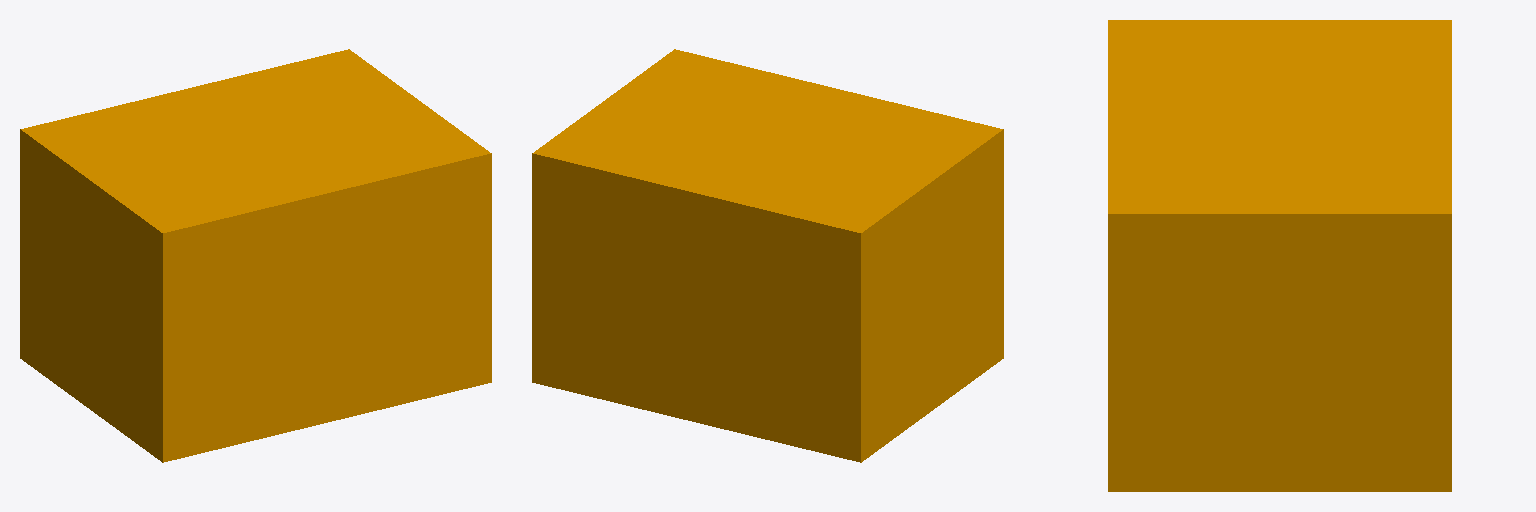
URDF robot description (three_circle_hole):
<?xml version="1.0"?>
<robot name="three_circle_hole">
    <link name="three_circle_hole">
        <visual>
            <origin xyz="0 0 0"/>
            <geometry>
                <mesh filename="../mesh/factory_insertion/three_circle_hole.obj"/>
            </geometry>
        </visual>
        <collision>
            <origin xyz="0 0 0"/>
            <geometry>
                <mesh filename="../mesh/factory_insertion/three_circle_hole.obj"/>
            </geometry>
            <sdf resolution="256"/>
        </collision>
        <inertial>
          <density value="567.0"/>
        </inertial>
    </link>

    <joint name="base_to_setpoint" type="fixed">
      <parent link="three_circle_hole"/>
      <child link="set_point"/>
      <origin rpy="0 0 0" xyz="0 0 -0.03"/>
    </joint>

    <link name="set_point">
      <visual>
        <geometry>
          <sphere radius="0.00005"/>
        </geometry>
        <material name="Vis"/>
        <origin xyz="0 0 0"/>
      </visual>
    </link>

</robot>

--- Render facts (derived) ---
3 views of the same robot in one strip: view 1: azimuth 30°, elevation 25°; view 2: azimuth 150°, elevation 25°; view 3: azimuth 270°, elevation 25° (orthographic).
Model three_circle_hole with 2 links and 1 joints (1 fixed), rooted at three_circle_hole, posed all joints at 0.
Visible links, largest first — view 1: three_circle_hole; view 2: three_circle_hole; view 3: three_circle_hole.
Link boxes in pixels (left/top/right/bottom): three_circle_hole: left=20, top=49, right=491, bottom=462; three_circle_hole: left=532, top=49, right=1003, bottom=462; three_circle_hole: left=1108, top=20, right=1451, bottom=491.
Size in the robot's own frame: 0.12 by 0.09 by 0.08 metres.
1 mesh visuals loaded from 1 distinct referenced files (1 OBJ).
